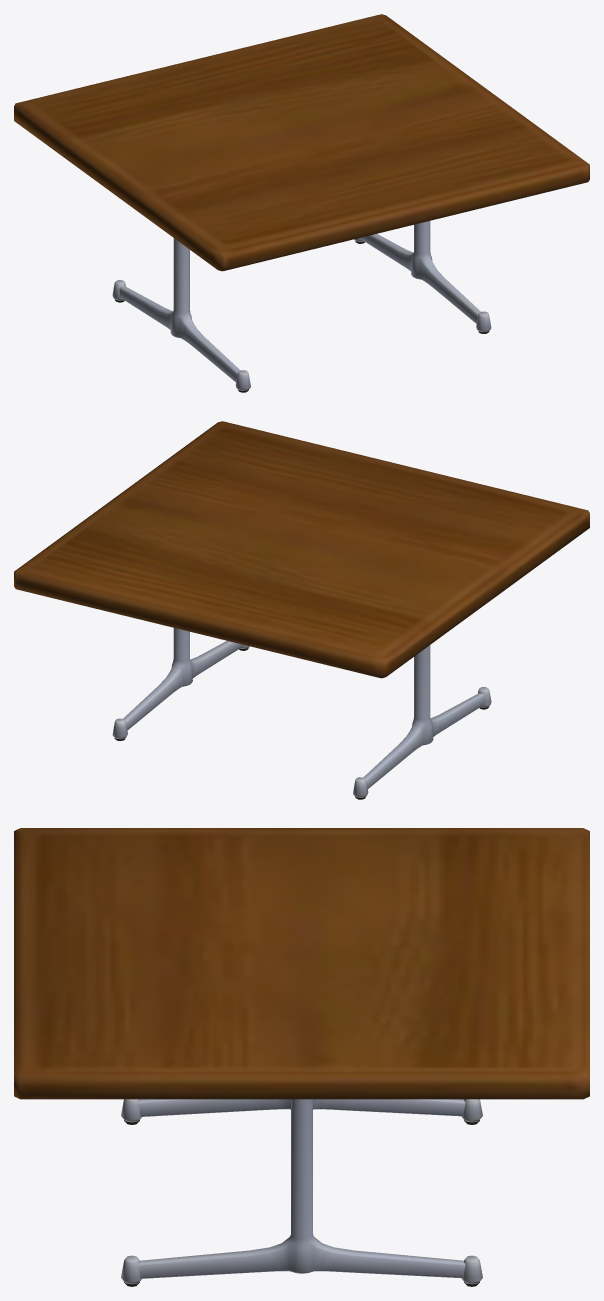
The picture shows the model from 3 angles, top to bottom: view 1: azimuth 30°, elevation 25°; view 2: azimuth 150°, elevation 25°; view 3: azimuth 270°, elevation 25°; orthographic projection. The views are drawn at different scales.
Size of the model in its own units: 16.99 by 8 by 16.51.
Materials: 1 (1 with a texture image).
